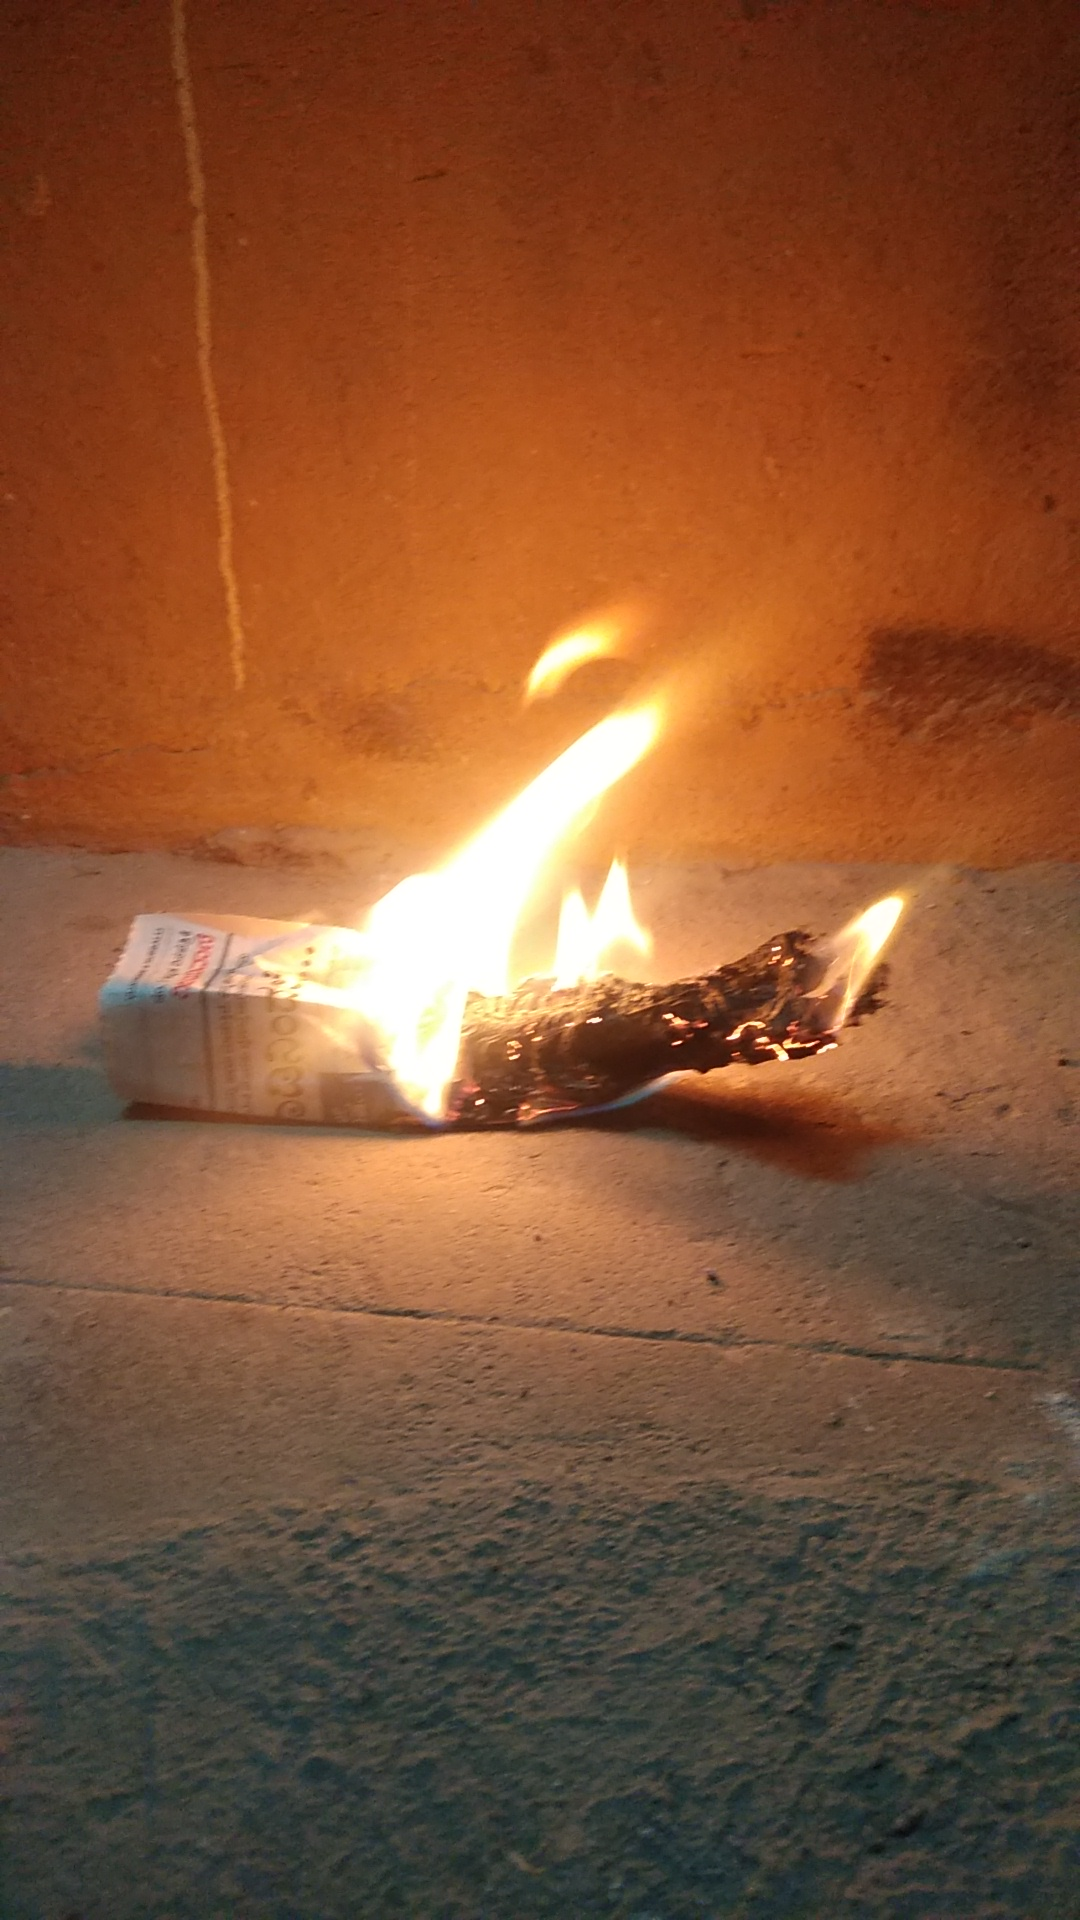Fire: (347, 618, 918, 1139)
